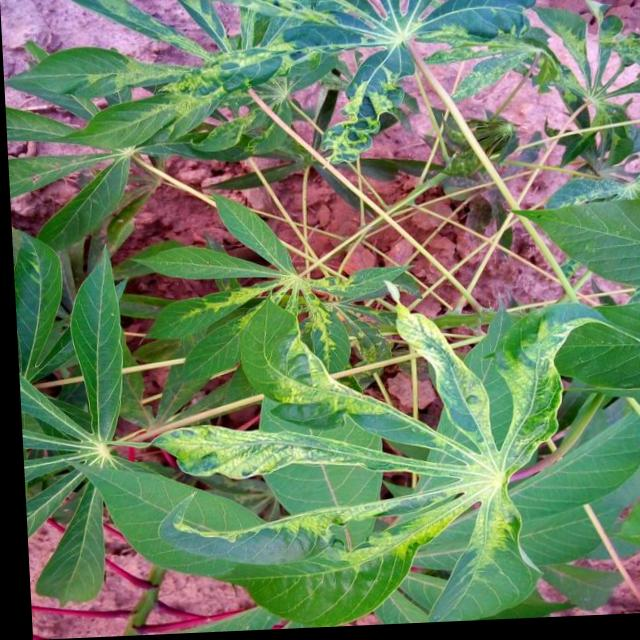Mosaico: (100, 291, 599, 626), (228, 0, 483, 163), (183, 229, 371, 366)
